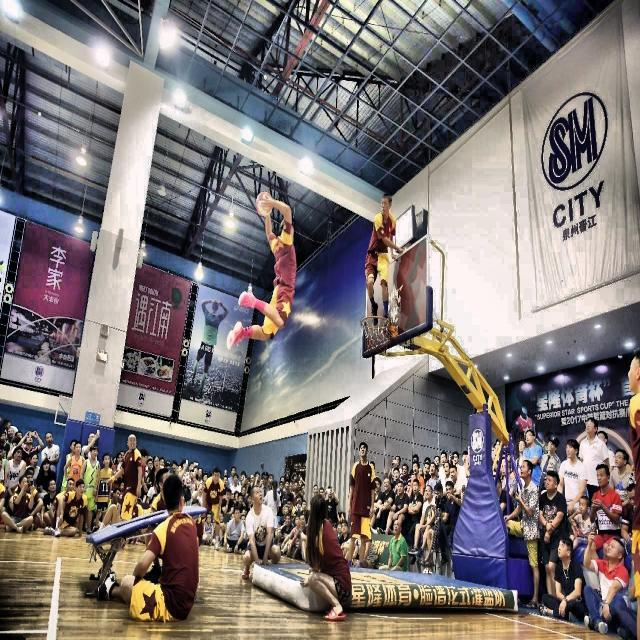board: (255, 191, 272, 217)
rim: (358, 310, 400, 360)
